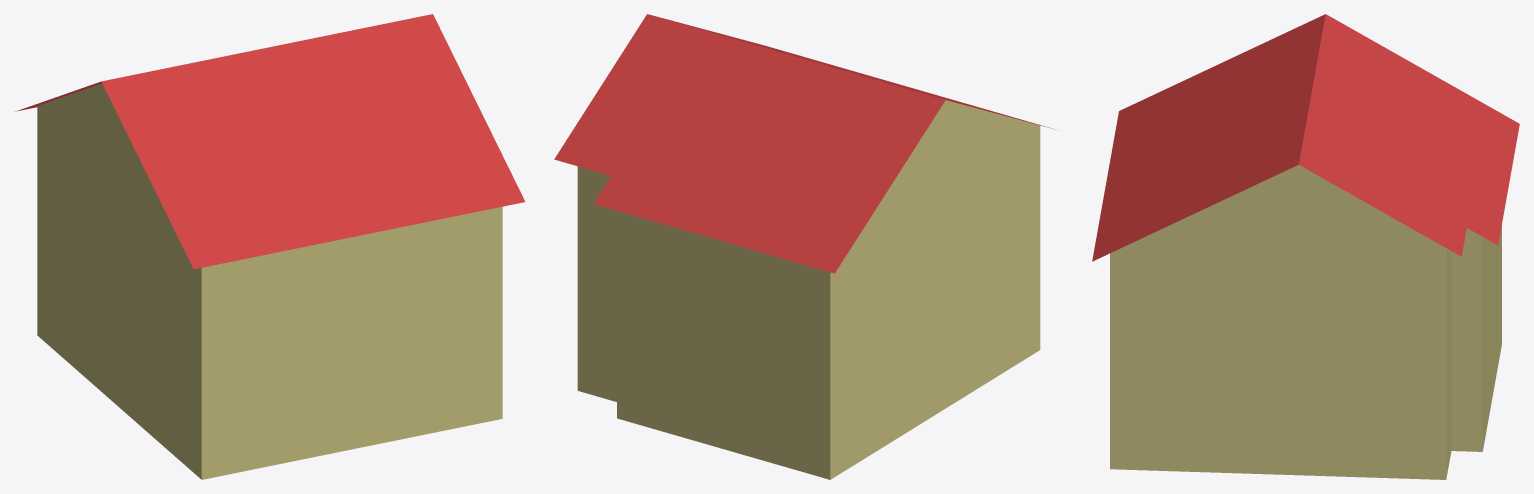
The picture shows the model from 3 angles, left to right: view 1: azimuth 30°, elevation 25°; view 2: azimuth 150°, elevation 25°; view 3: azimuth 270°, elevation 25°; orthographic projection. The views are drawn at different scales.
Bounding box in the file's own units: 11.52 × 12.82 × 10.5.
